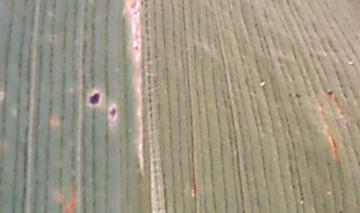tarspot: (89, 93, 101, 107), (109, 107, 116, 116), (327, 88, 334, 97), (294, 93, 302, 99), (338, 209, 343, 213)
